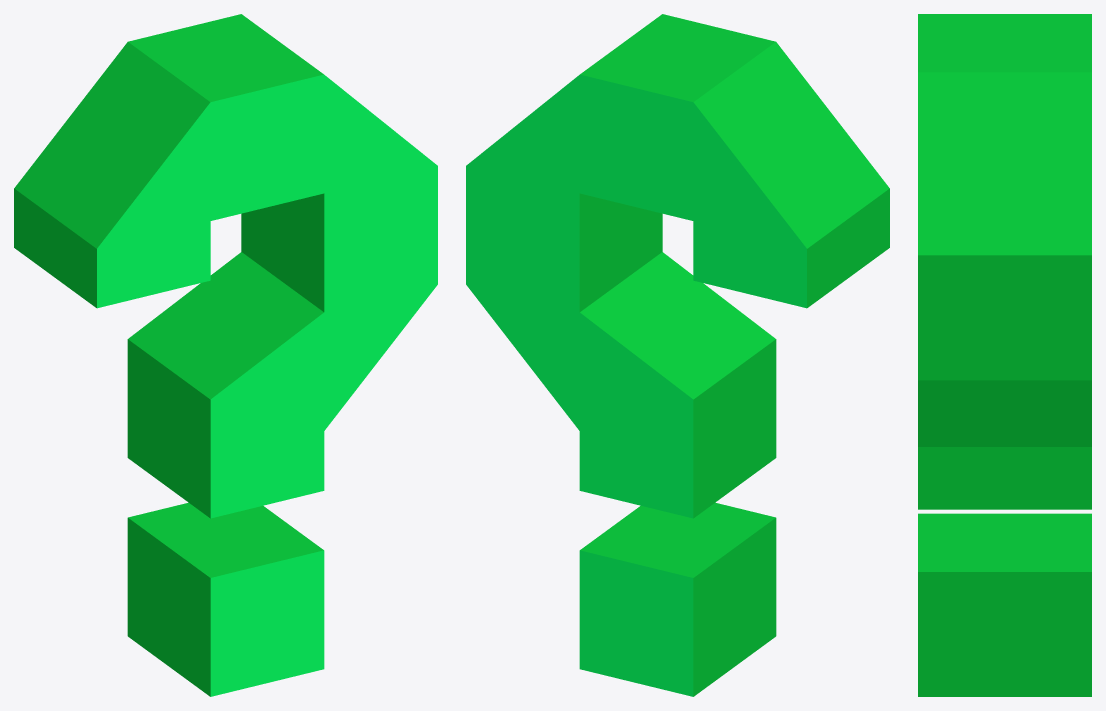
The picture shows the model from 3 angles, left to right: view 1: azimuth 30°, elevation 25°; view 2: azimuth 150°, elevation 25°; view 3: azimuth 270°, elevation 25°; orthographic projection. The views are drawn at different scales.
Visible parts, largest first — view 1: ?_DeltaBlock_Green; view 2: ?_DeltaBlock_Green; view 3: ?_DeltaBlock_Green.
Boxes of the visible parts, x1=… form: ?_DeltaBlock_Green: x1=14, y1=14, x2=437, y2=696; ?_DeltaBlock_Green: x1=466, y1=14, x2=889, y2=696; ?_DeltaBlock_Green: x1=918, y1=14, x2=1091, y2=696.
Size of what is drawn, in the model's own units: 0.1071 by 0.1786 by 0.045.
Materials: 2 (2 with a texture image).
